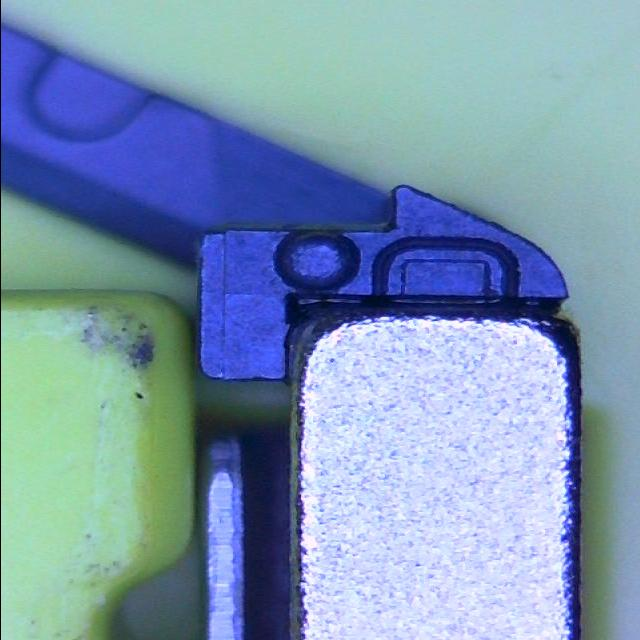lacking: (370, 236, 522, 302)
